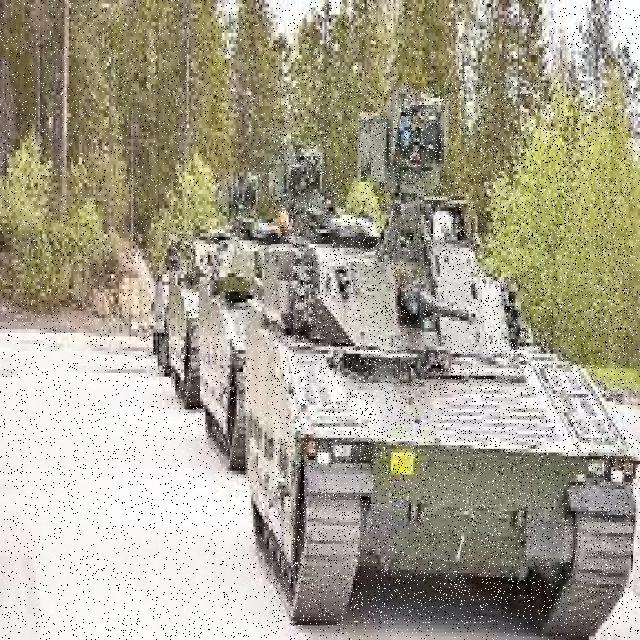MIL_MBT: (272, 82, 632, 623), (197, 217, 258, 495), (173, 232, 191, 397)
